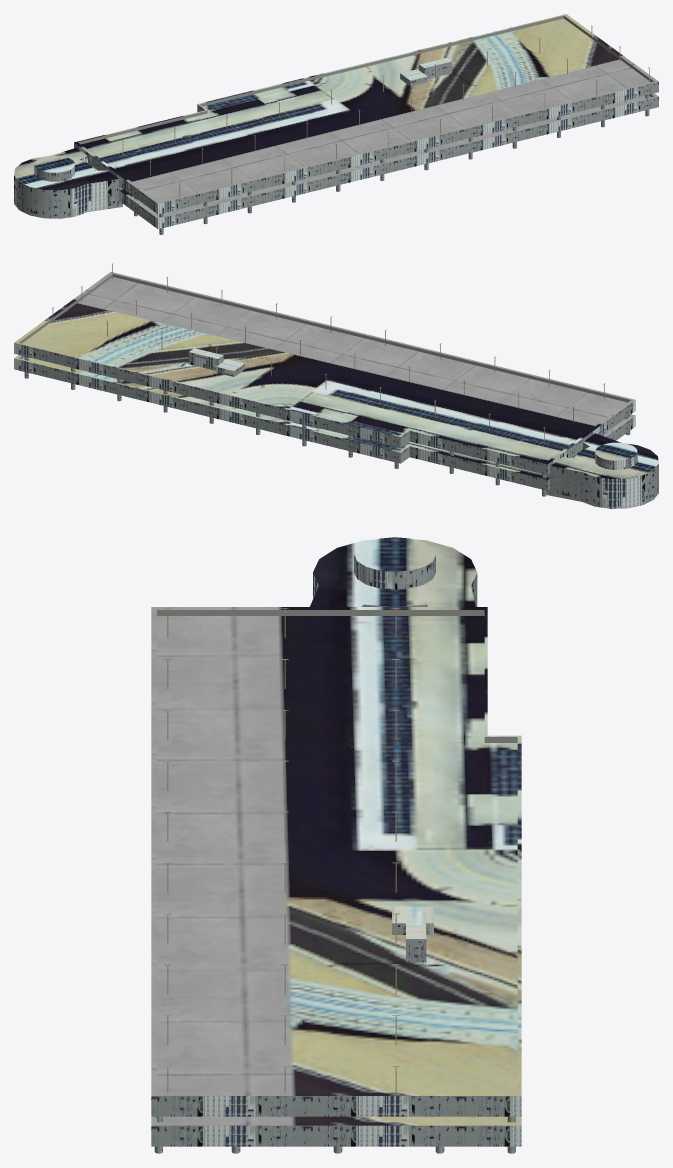
Rendered from Garage2.exact.glb.
3 renders of one model, top to bottom at view 1: azimuth 30°, elevation 25°; view 2: azimuth 150°, elevation 25°; view 3: azimuth 270°, elevation 25°, orthographic. The views are drawn at different scales.
Visible parts, largest first — view 1: Garage2; view 2: Garage2; view 3: Garage2.
Part boxes in pixels (bbox=[...]): Garage2: bbox=[14, 14, 658, 234]; Garage2: bbox=[14, 263, 658, 508]; Garage2: bbox=[151, 537, 521, 1153].
Bounding box in the file's own units: 203 × 15.04 × 56.27.
Materials: 1 (1 with a texture image).
